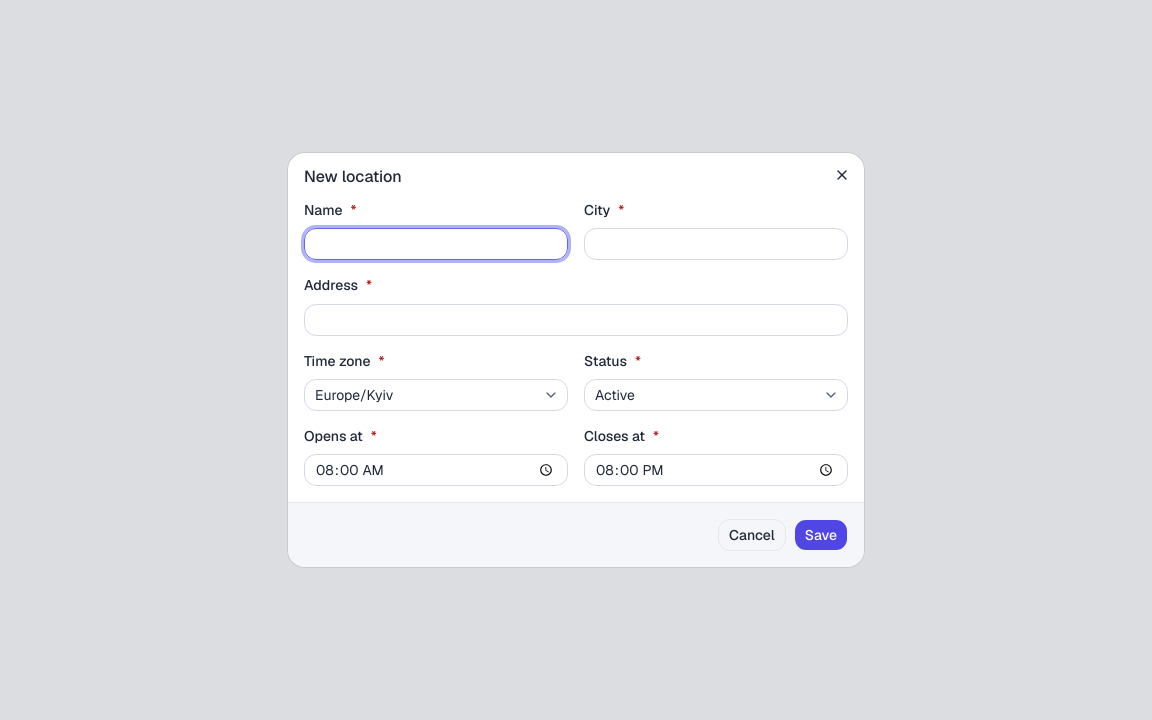
Test: LocationFormDialog: failures › puts a 422 under its field, focuses it and stays open
The image size is (1152, 720).
Type "Garden Annex" into the field labelled "Name *". click: (436, 244)
box: [304,228,568,260]
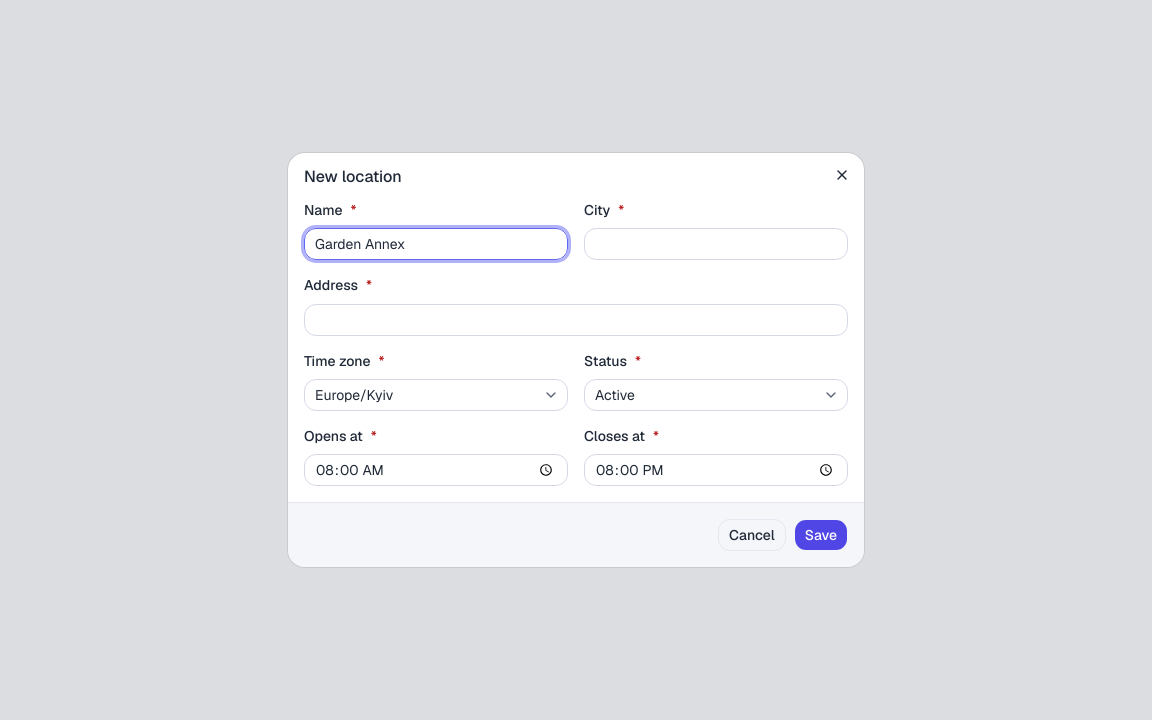
Type "Vienna" into the field labelled "City *". click: (716, 244)
box: [584,228,848,260]
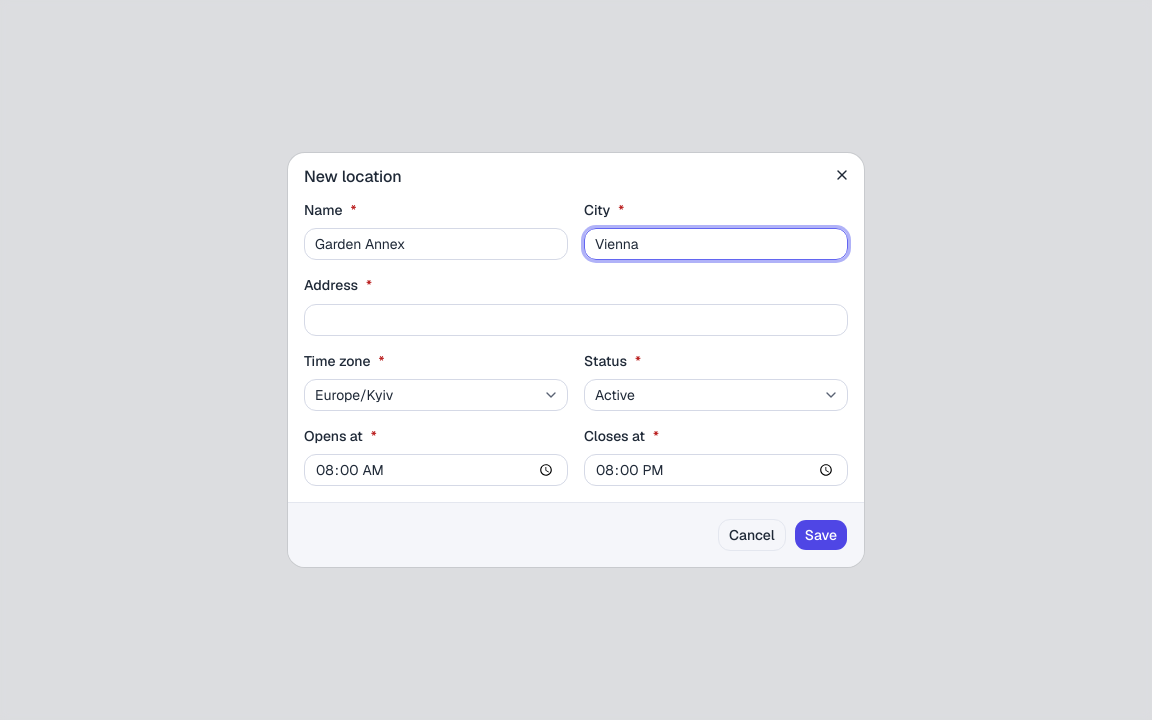
Type "5 Ring Strasse" into the field labelled "Address *". click: (576, 320)
box: [304,304,848,336]
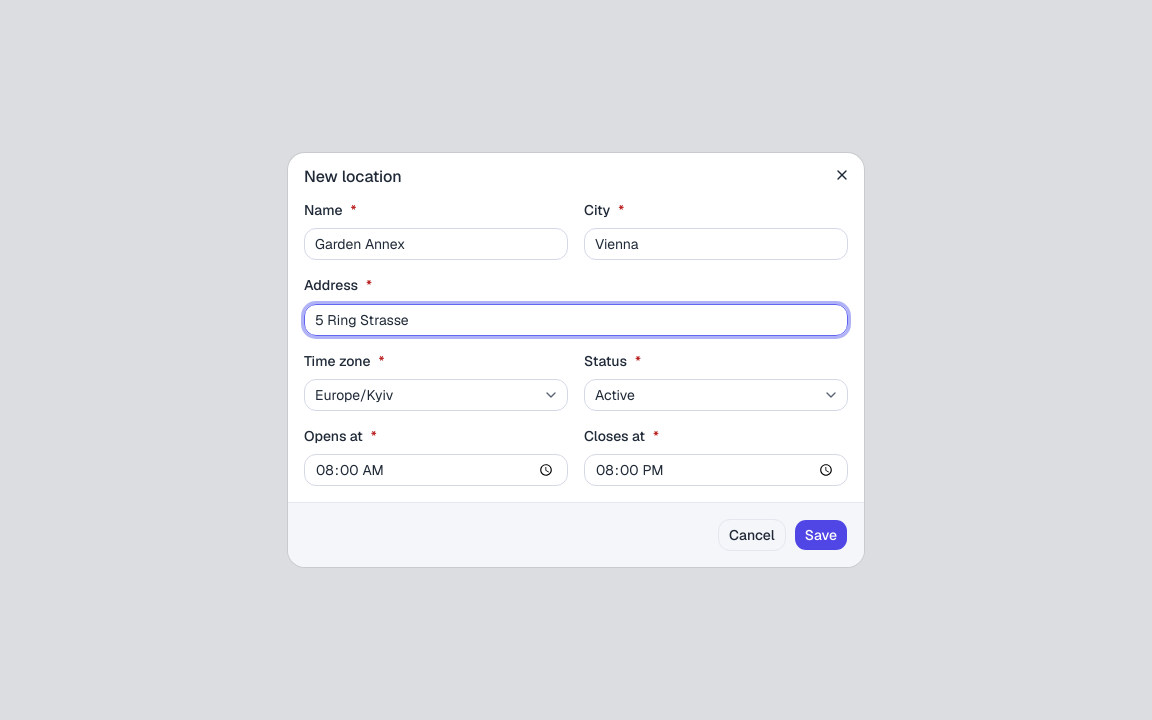
Click the button "Save". click: (821, 535)
box: [794,519,848,551]
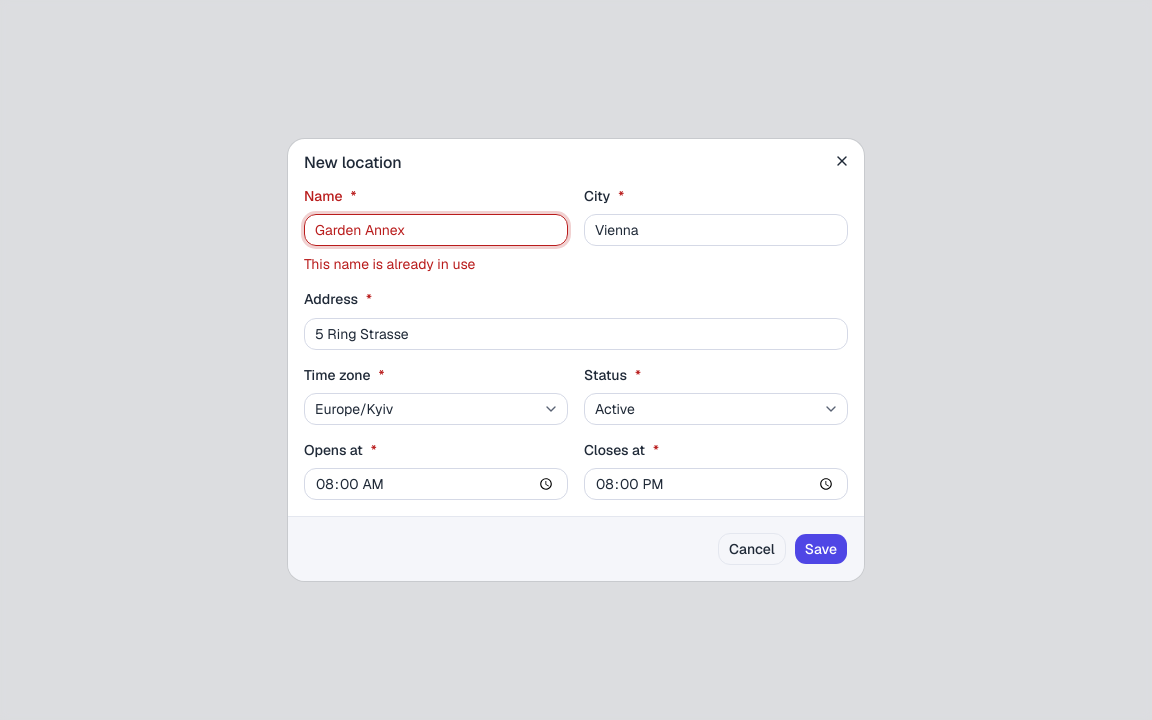
Expected: the dialog is shown, [288,139,864,581]
Expected: the text "This name is already in use" is shown, [304,255,475,273]
